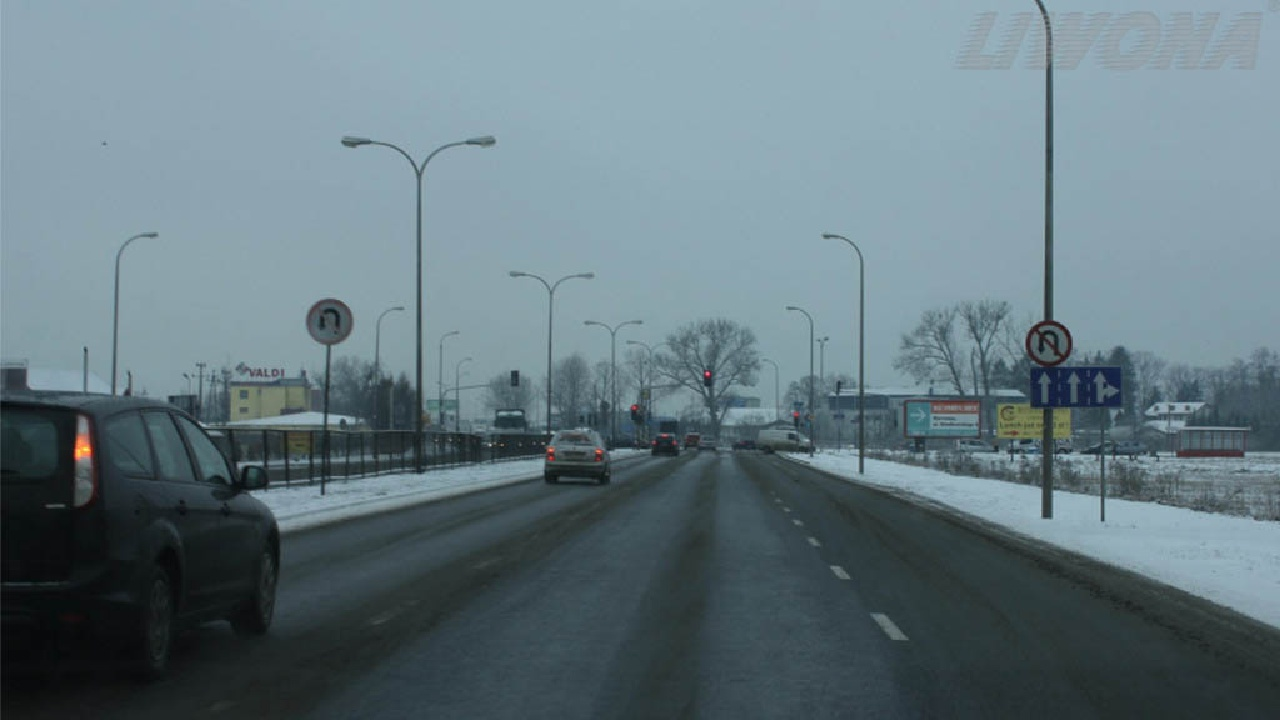B23: (306, 299, 353, 345), (1026, 321, 1073, 367)
Red: (704, 370, 711, 387), (631, 405, 637, 420), (794, 412, 799, 426)
